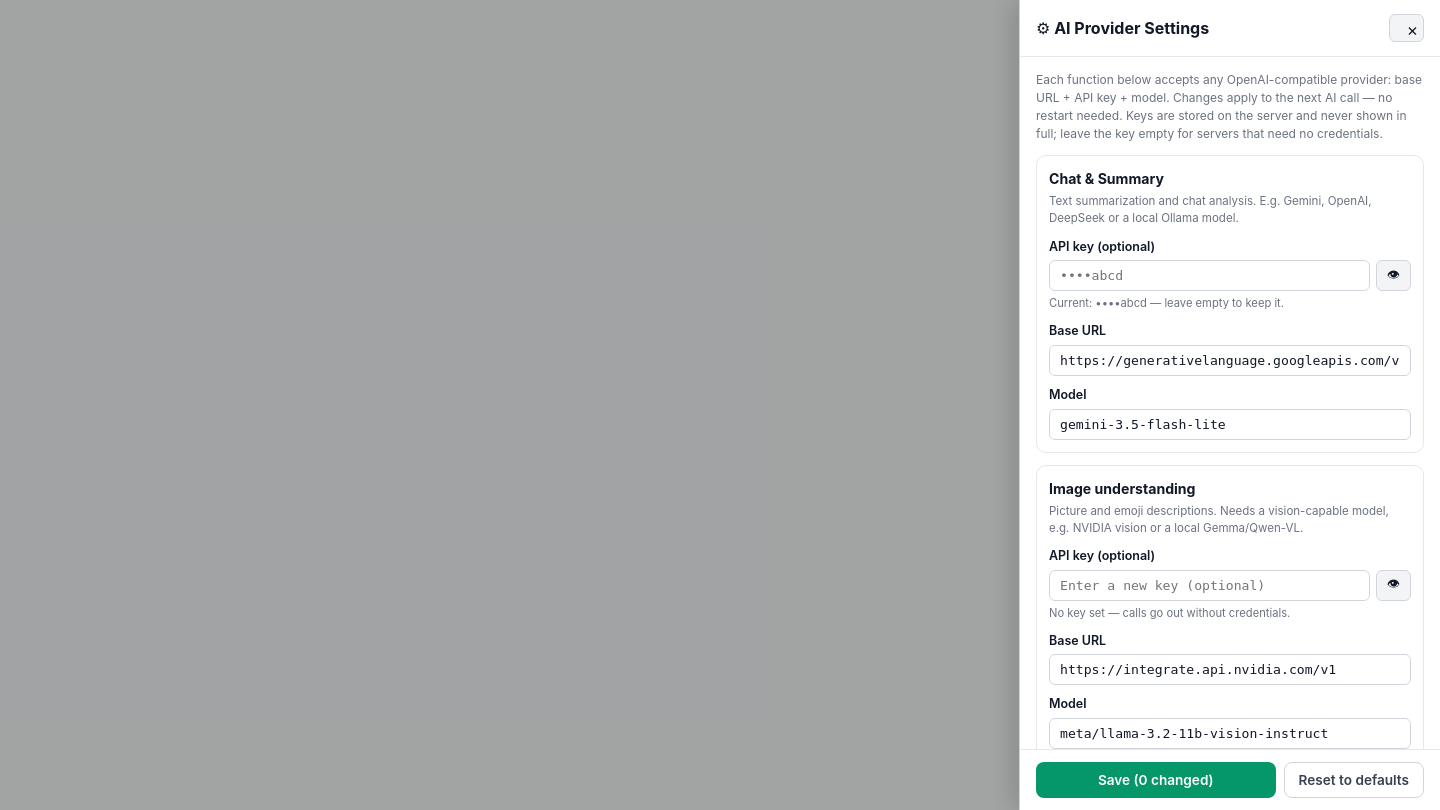
Test: SettingsSidebar › requires two clicks to reset and issues DELETE on confirm
Expected: the text "Chat & Summary" is shown, top-left (1049, 170), bottom-right (1164, 187)
Step 1. Click the button "Reset to defaults" → (1354, 780), box top-left (1284, 762), bottom-right (1424, 798)
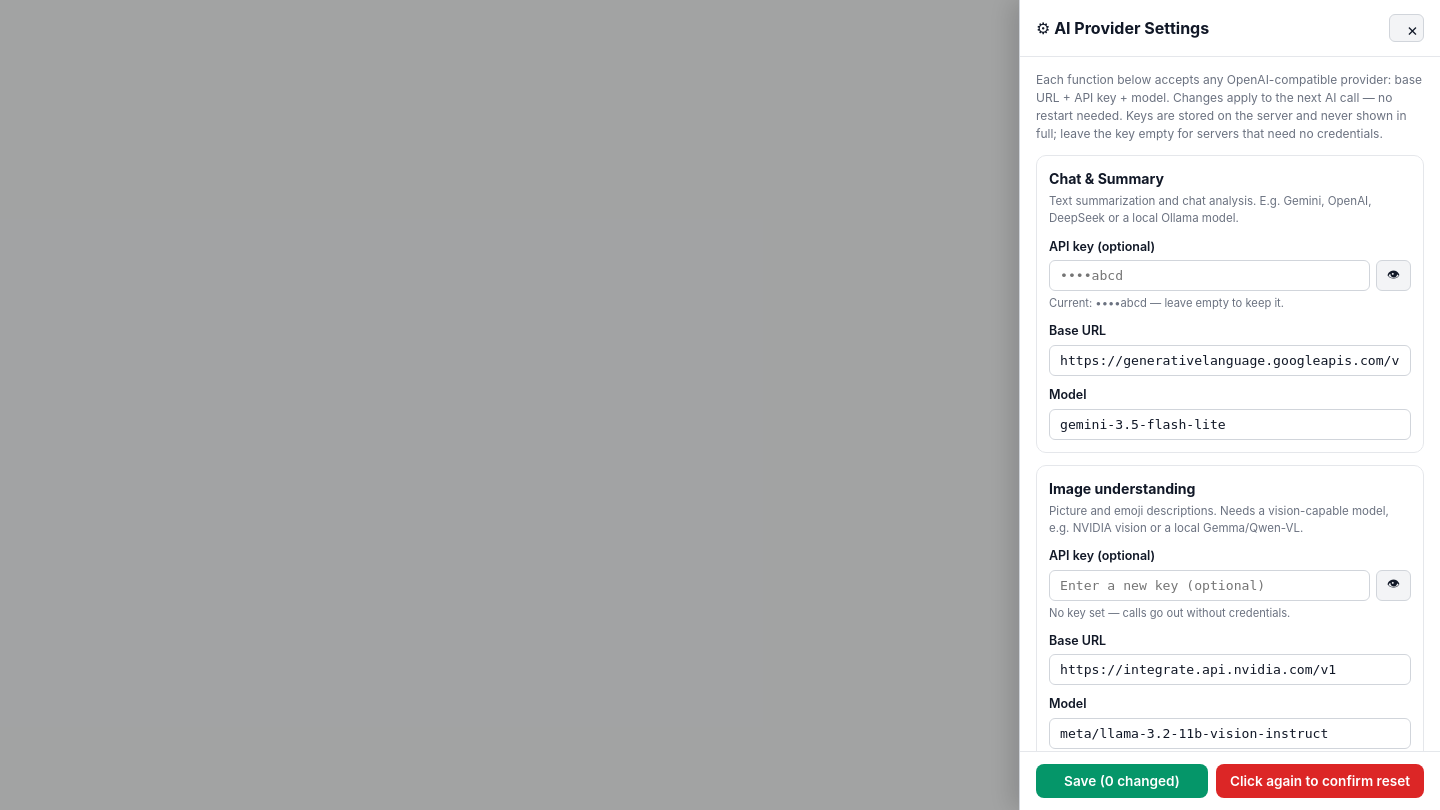
Expected: the button "Click again to confirm reset" is shown
Step 2. Click the button "Click again to confirm reset" → (1320, 781), box top-left (1216, 764), bottom-right (1424, 798)
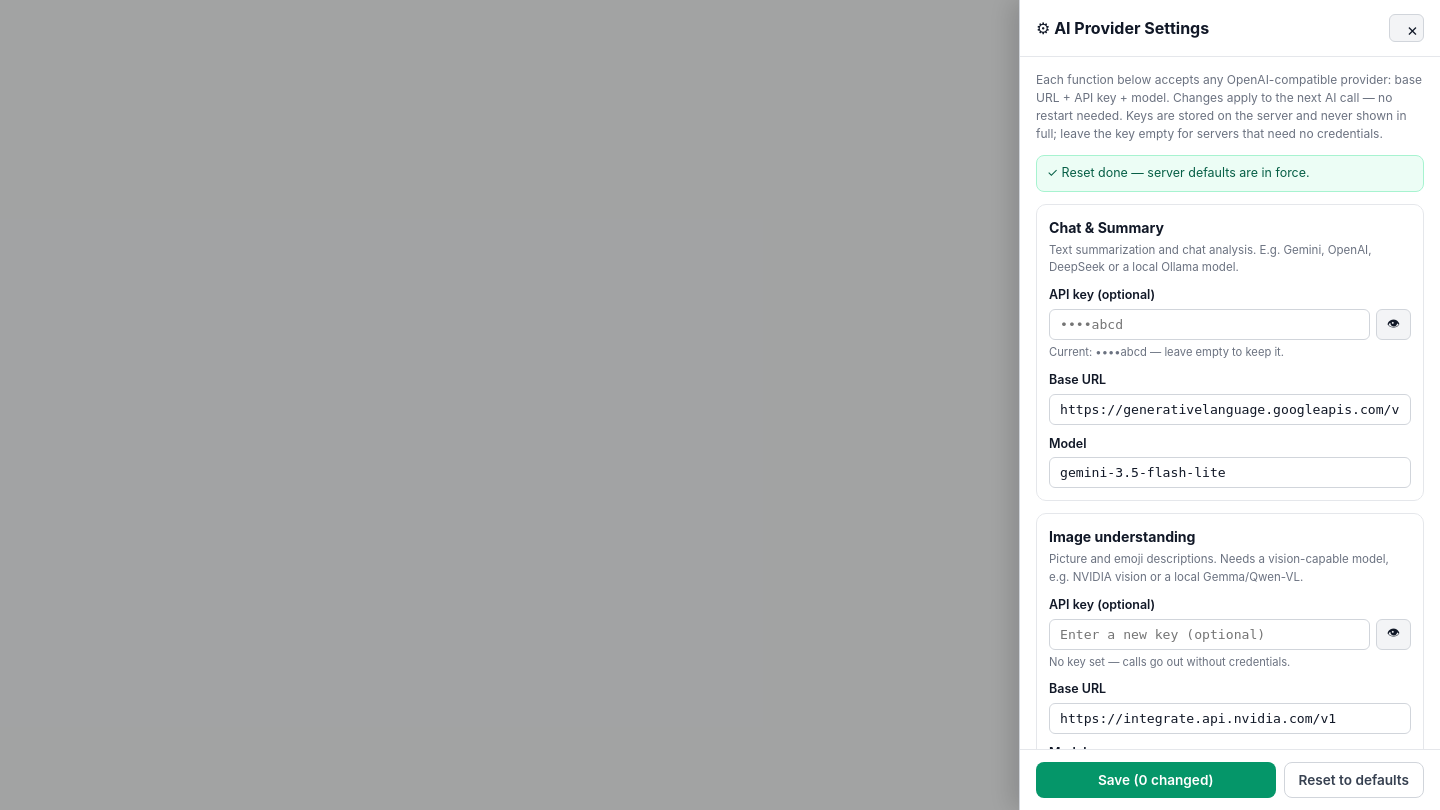
Expected: the text "✓ Reset done — server defaults are in force." is shown, top-left (1036, 155), bottom-right (1424, 192)
